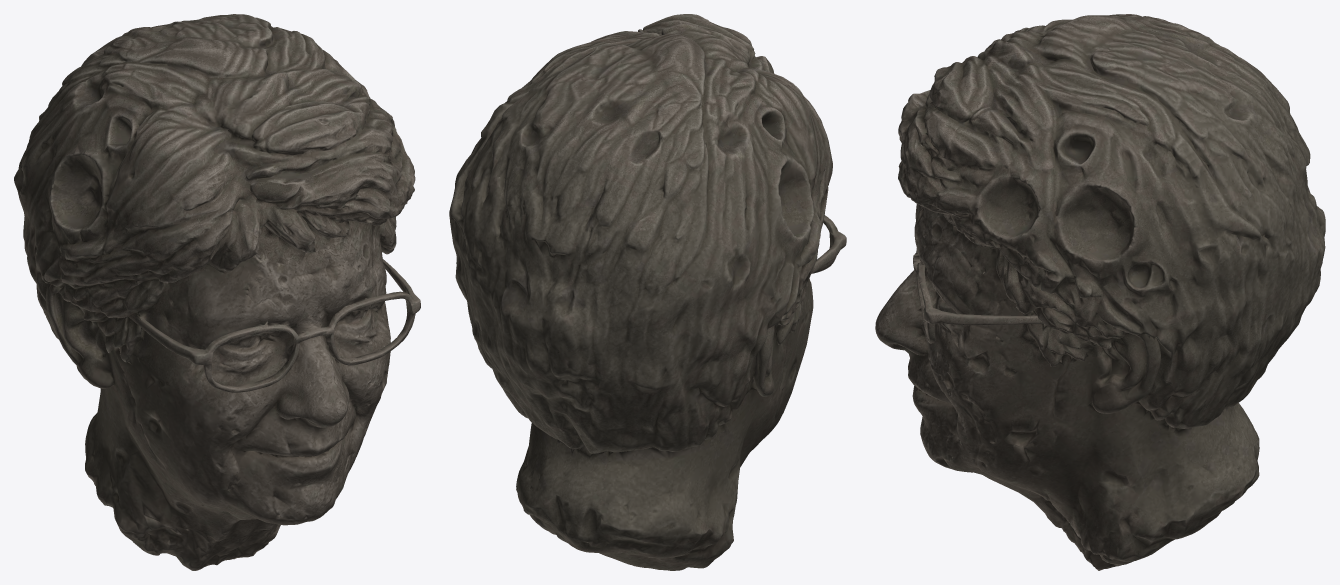
File: Bell.glb
3 renders of one model, left to right at view 1: azimuth 30°, elevation 25°; view 2: azimuth 150°, elevation 25°; view 3: azimuth 270°, elevation 25°, orthographic. The views are drawn at different scales.
Size of the model in its own units: 1.23 by 1.9 by 1.46.
1 material, 1 textured.
